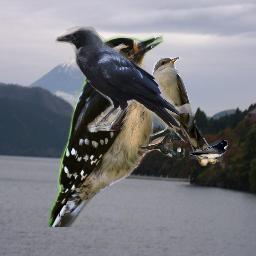Crow: (55, 26, 180, 131)
Cuckoo: (151, 57, 216, 166)
Swallow: (189, 140, 228, 162)
Woodpecker: (49, 35, 186, 227)
